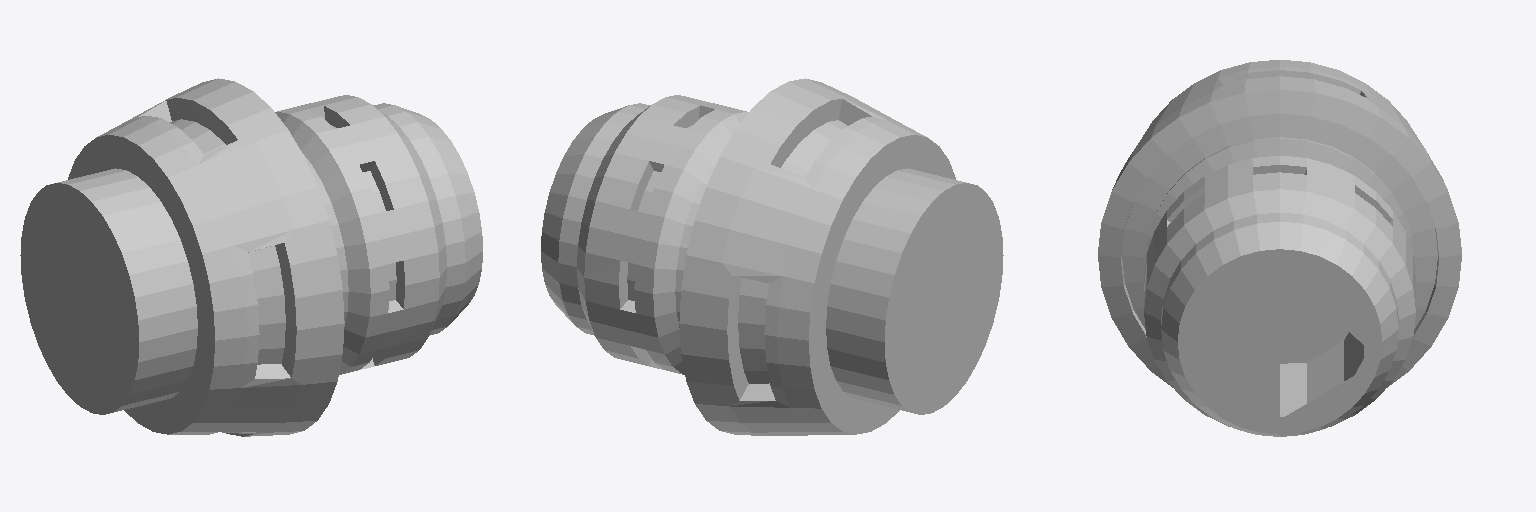
File: shoulder_l.obj
3 views of the same model, side by side, from view 1: azimuth 30°, elevation 25°; view 2: azimuth 150°, elevation 25°; view 3: azimuth 270°, elevation 25° (orthographic).
Parts seen in each view (by area): view 1: shoulder_l_Cylinder.007; view 2: shoulder_l_Cylinder.007; view 3: shoulder_l_Cylinder.007.
Part boxes in pixels (x1,y1,x2,y2): shoulder_l_Cylinder.007: (20,78,482,436); shoulder_l_Cylinder.007: (541,78,1003,435); shoulder_l_Cylinder.007: (1098,60,1461,436).
Bounding box in the file's own units: 0.3509 × 0.3147 × 0.3147.